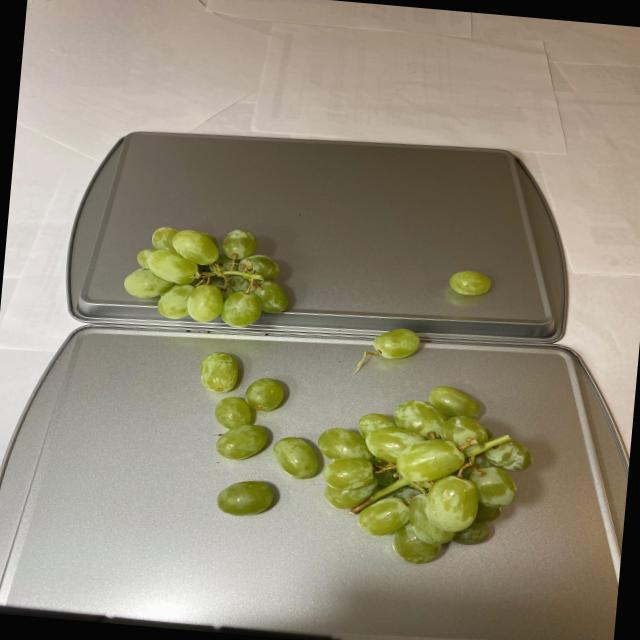grapes: (187, 350, 540, 572), (118, 217, 300, 331), (359, 323, 434, 363), (442, 268, 496, 298)
